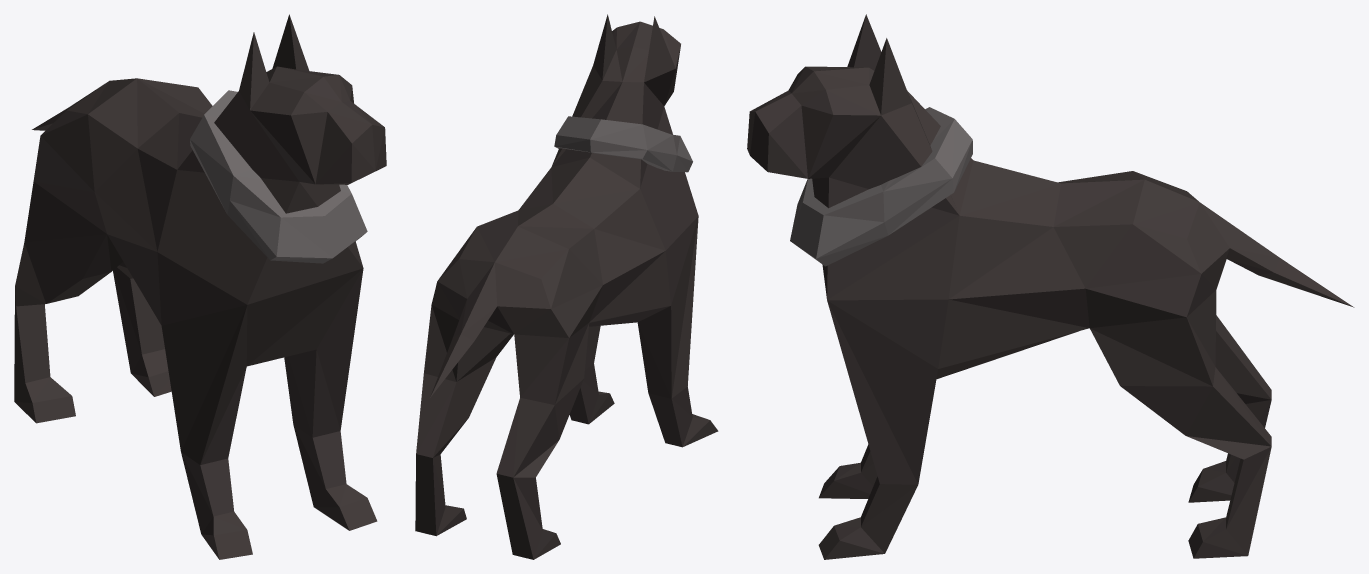
File: pug-dog_4_v000.glb
The picture shows the model from 3 angles, left to right: view 1: azimuth 30°, elevation 25°; view 2: azimuth 150°, elevation 25°; view 3: azimuth 270°, elevation 25°; orthographic projection. The views are drawn at different scales.
Visible parts, largest first — view 1: world; view 2: world; view 3: world.
Boxes of the visible parts, x1=… form: world: x1=14, y1=14, x2=386, y2=559; world: x1=415, y1=14, x2=718, y2=559; world: x1=747, y1=14, x2=1354, y2=559.
Bounding box in the file's own units: 0.0449 × 0.1299 × 0.1441.
1 material, 1 textured.
